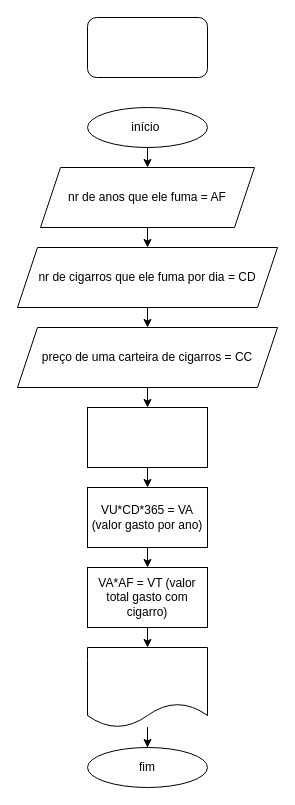
This 295x805 diagram has some shape labels left out. Here are the shapes that lost their labels. From the top down, the centre of each, then its label:
pixel 147 47: cálculo de gastos Fumante
pixel 147 437: CC/CD = VU (valor unitário do cigarro)
pixel 147 687: imprime VT
